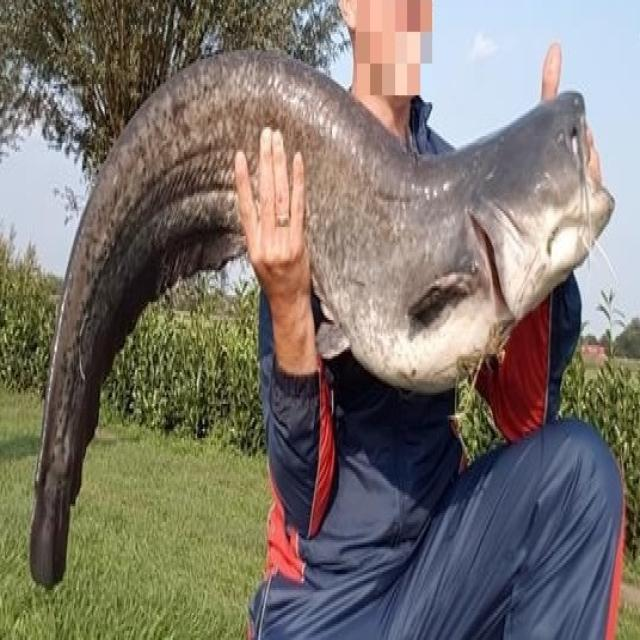Catfish: (19, 21, 628, 610)
